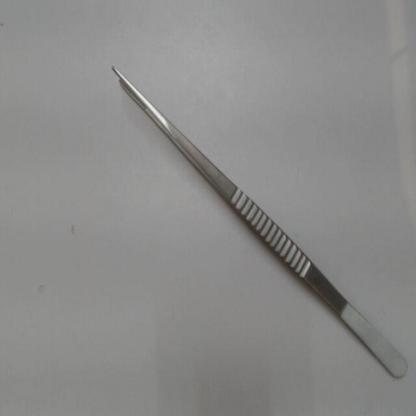DeBakey Dissector: (86, 51, 410, 394)
